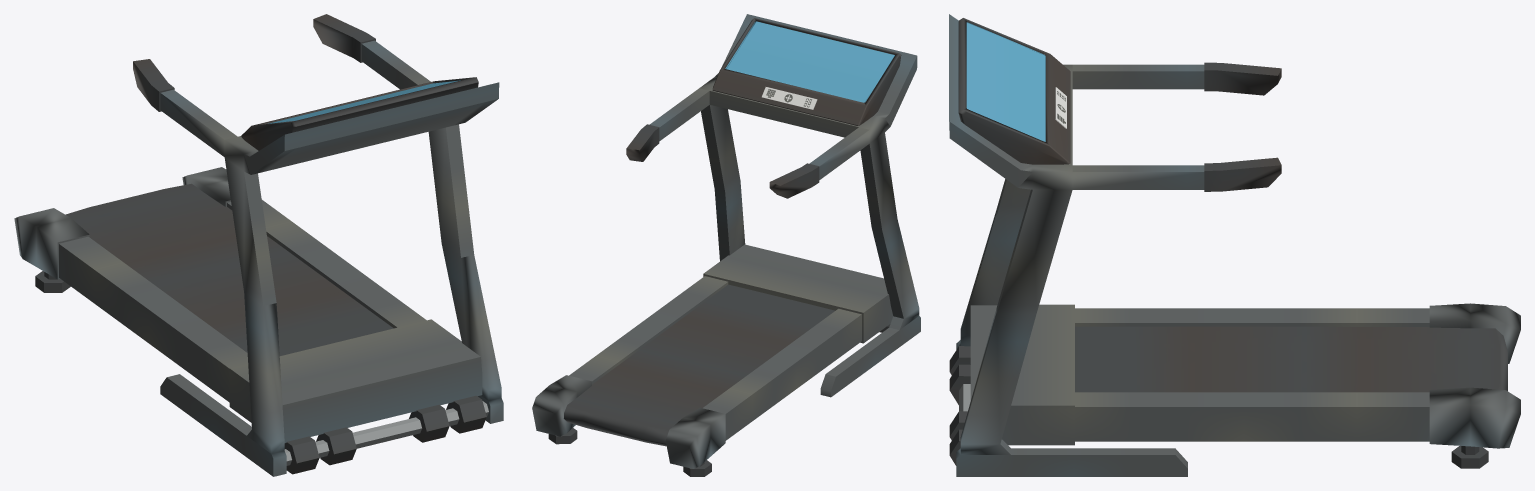
The model's file is treadmill.glb.
3 renders of one model, left to right at view 1: azimuth 30°, elevation 25°; view 2: azimuth 150°, elevation 25°; view 3: azimuth 270°, elevation 25°, orthographic. The views are drawn at different scales.
Parts seen in each view (by area): view 1: GymEquipments_09_GymEquipments_SG_0; view 2: GymEquipments_09_GymEquipments_SG_0; view 3: GymEquipments_09_GymEquipments_SG_0.
Boxes of the visible parts, x1,y1,x2,y2 form: GymEquipments_09_GymEquipments_SG_0: (14,14,503,476); GymEquipments_09_GymEquipments_SG_0: (532,14,920,476); GymEquipments_09_GymEquipments_SG_0: (949,14,1520,476).
Size of the model in its own units: 0.4552 by 0.6623 by 0.9549.
Materials: 1 (1 with a texture image).
